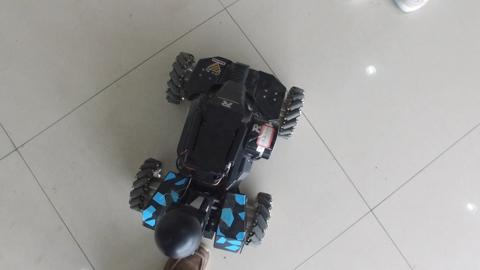chariot: (120, 32, 293, 252)
